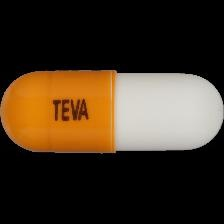63629-3204: (0, 0, 224, 224)
